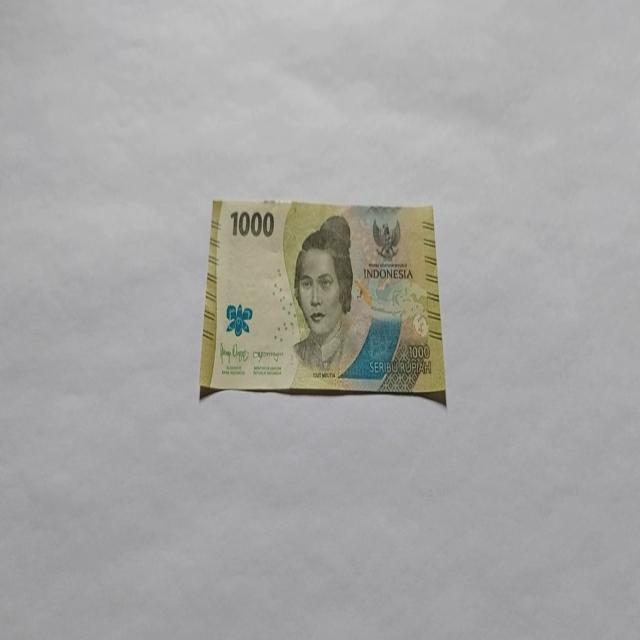seribu rupiah kertas: (198, 198, 446, 404)
